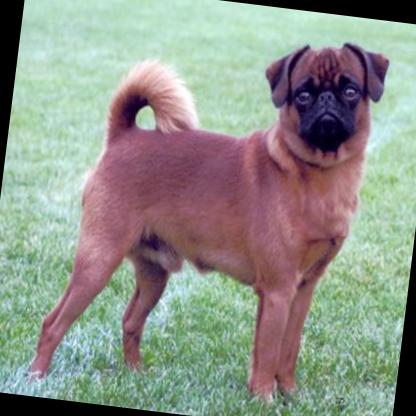Brabancon_griffon: (24, 5, 391, 416)
